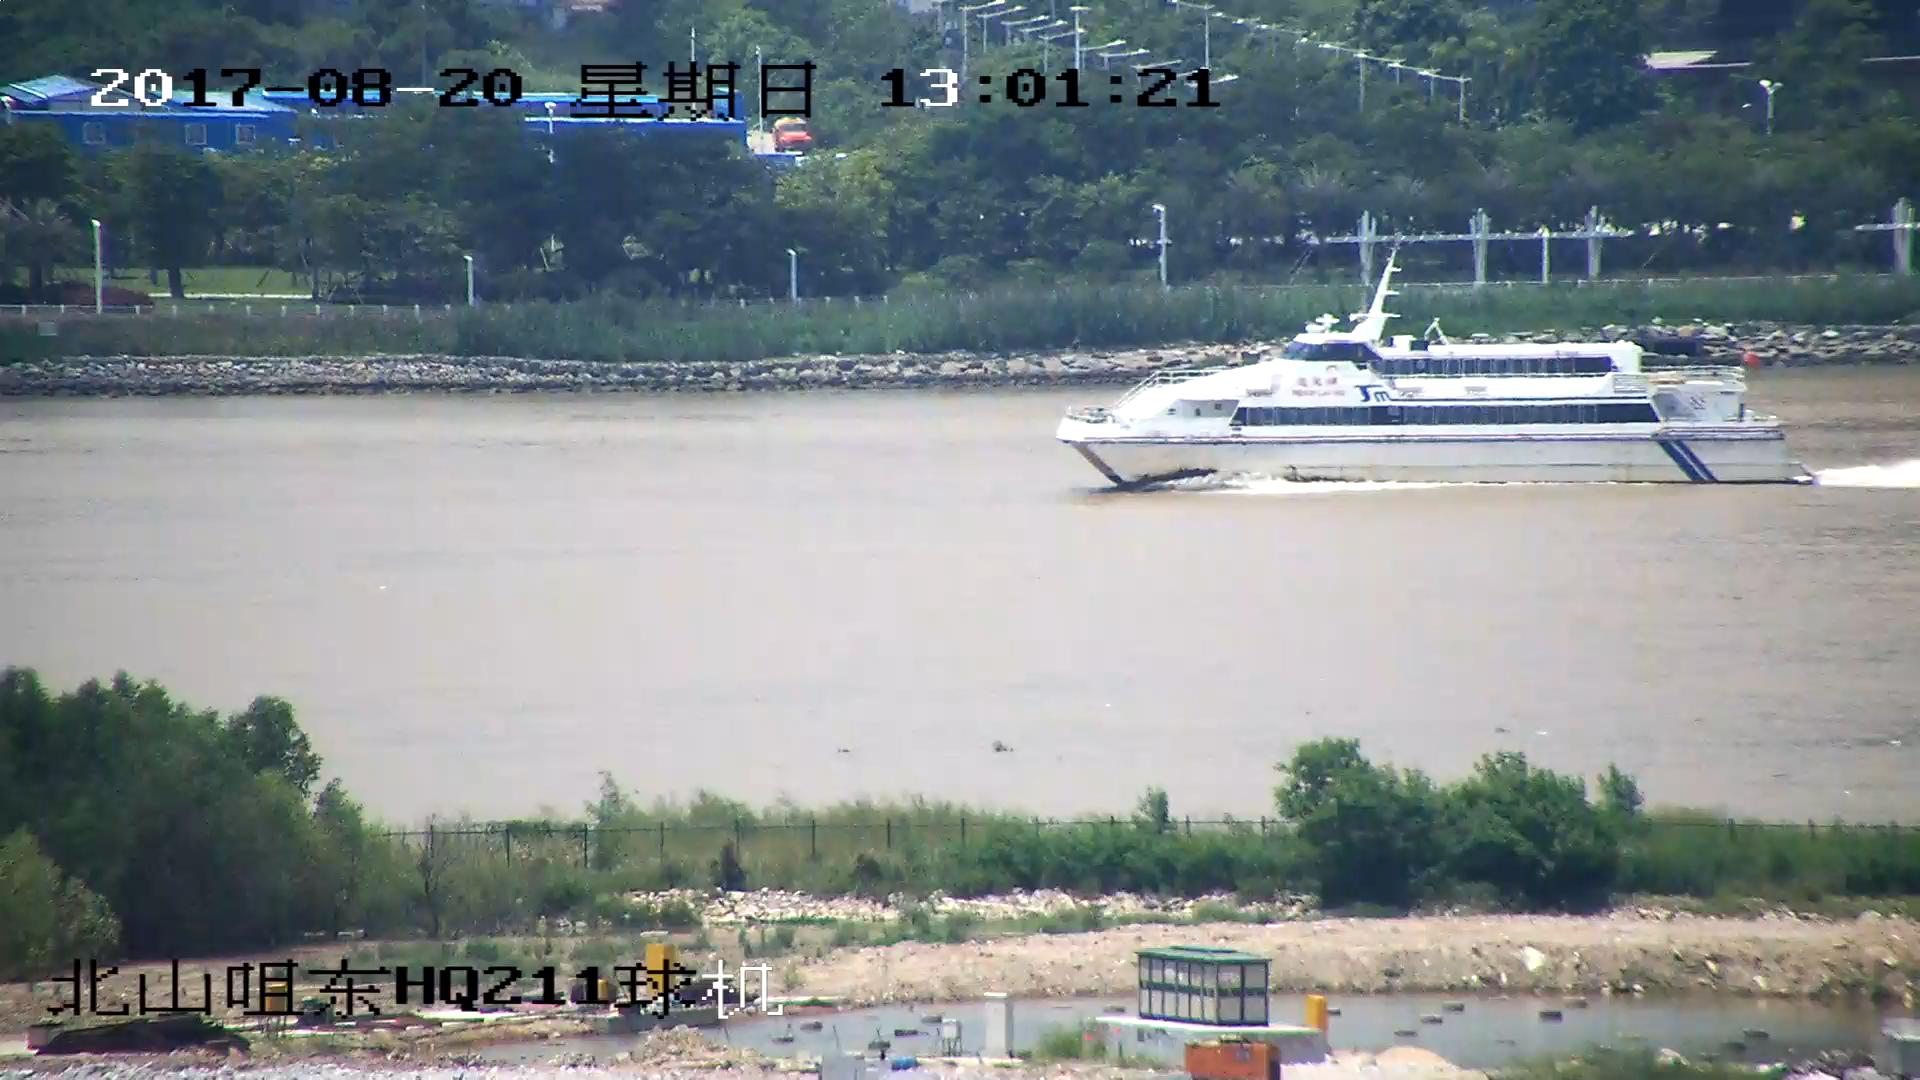passenger ship: (1058, 253, 1815, 490)
